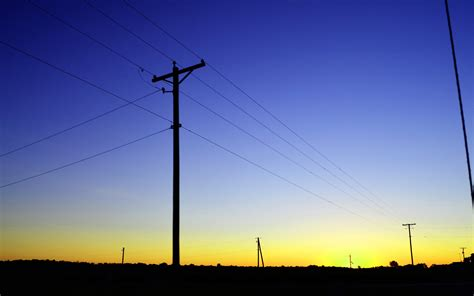pole: (128, 51, 222, 272)
